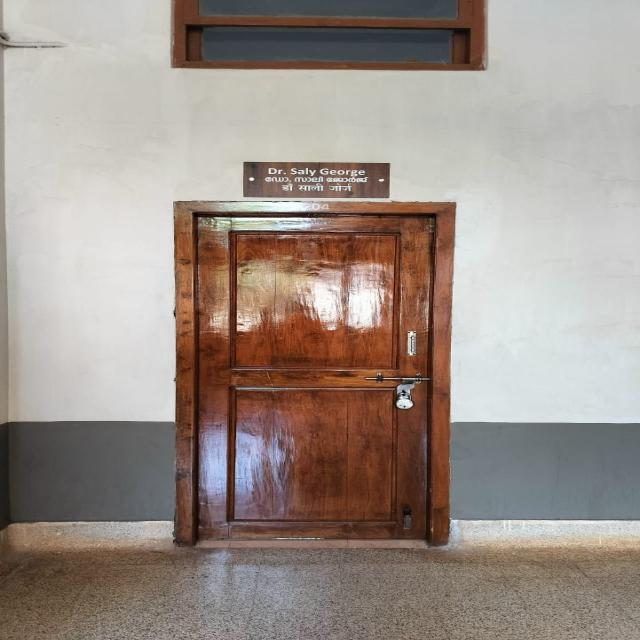Door ahead at: (200, 210, 433, 547)
